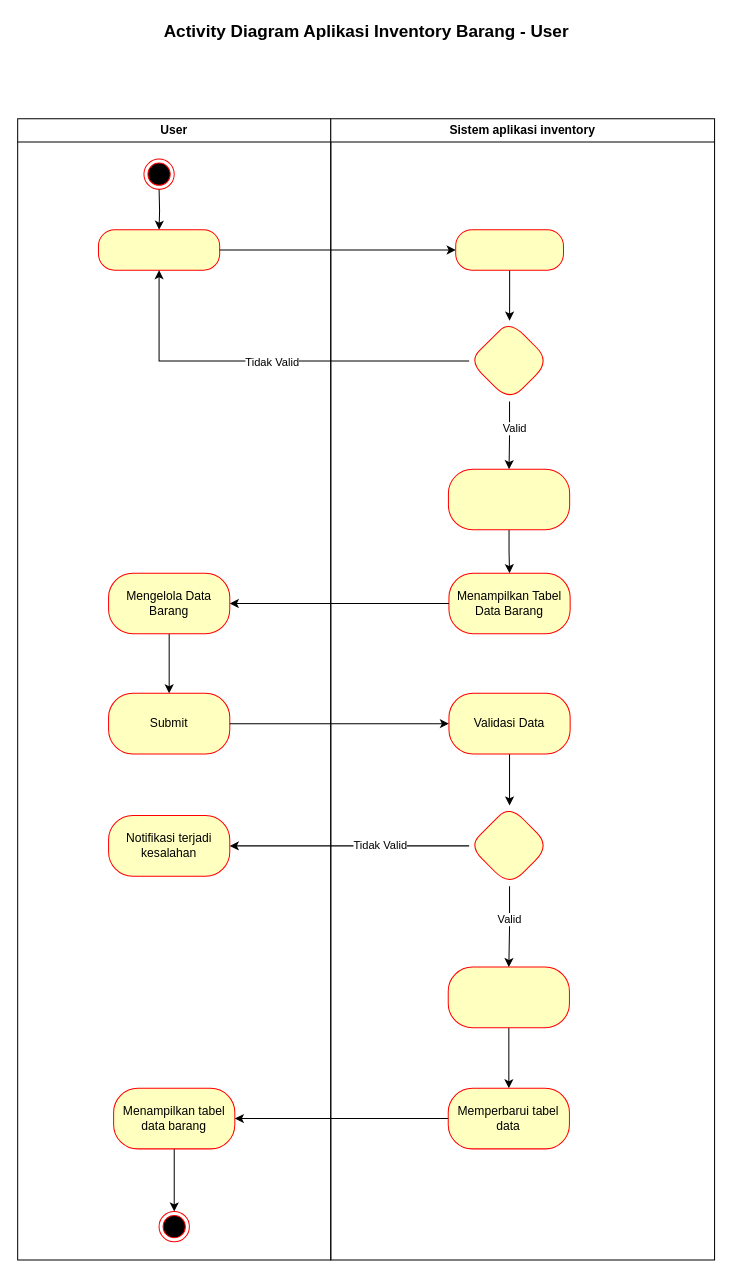
This 732x1278 diagram has some shape labels left out. Each missing label, with the centre of its shape:
"Login" belongs at (x=158, y=249).
"Menampilkan Hal Utama" belongs at (x=508, y=499).
"Menyipan data ke database" belongs at (x=508, y=997).
"Verifikasi" belongs at (x=509, y=249).
